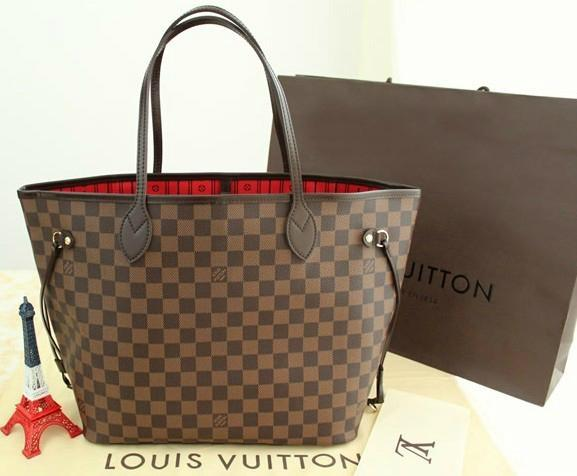LOUIS-VUITTON: (395, 433, 435, 463)
